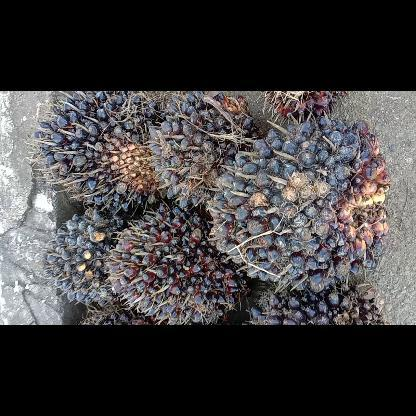TBS mentah: (204, 115, 392, 292), (31, 91, 173, 215), (106, 204, 252, 324), (146, 90, 262, 214), (40, 203, 128, 307), (244, 278, 388, 324)
